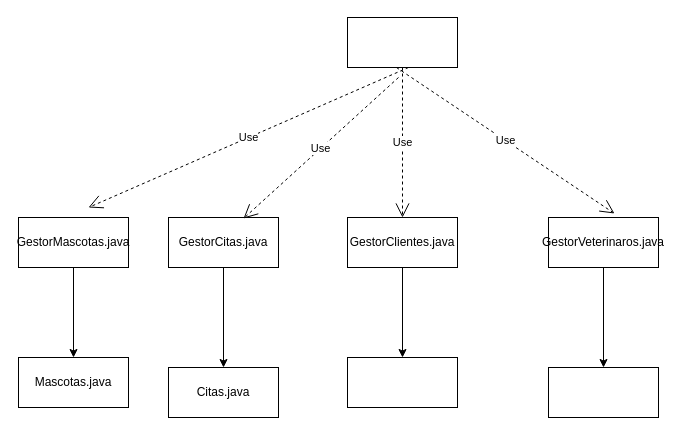
Image size: 682x435. Some labels were removed from this diagram. Here are the shapes that lost their labels. From the top down, the box of each, then its label:
(346, 16, 458, 68): App. java
(346, 356, 458, 408): Clientes.java
(548, 366, 658, 418): Veterinario.java
